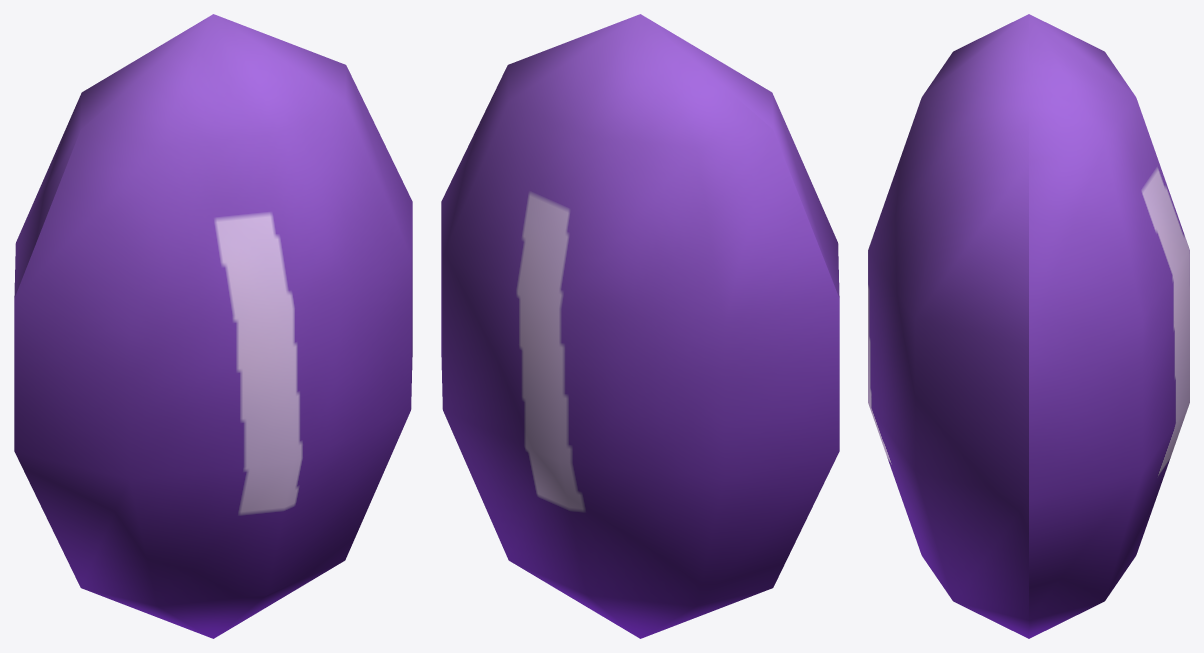
Rendered from pickup_stone.glb.
3 views of the same model, side by side, from view 1: azimuth 30°, elevation 25°; view 2: azimuth 150°, elevation 25°; view 3: azimuth 270°, elevation 25° (orthographic).
Visible parts, largest first — view 1: pickup_stone; view 2: pickup_stone; view 3: pickup_stone.
Boxes of the visible parts, x1,y1,x2,y2 form: pickup_stone: [14, 14, 412, 638]; pickup_stone: [441, 14, 839, 638]; pickup_stone: [868, 14, 1189, 638].
Size of the model in its own units: 0.3 by 0.45 by 0.21.
1 material, 1 textured.
